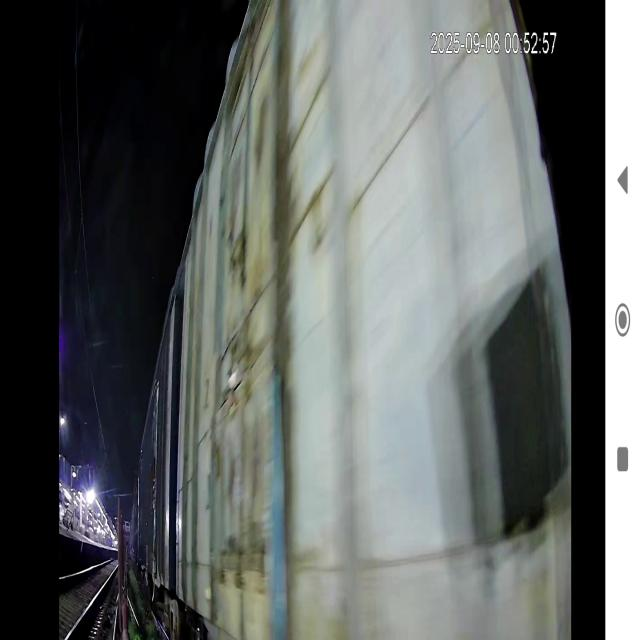coach: (187, 3, 567, 640)
